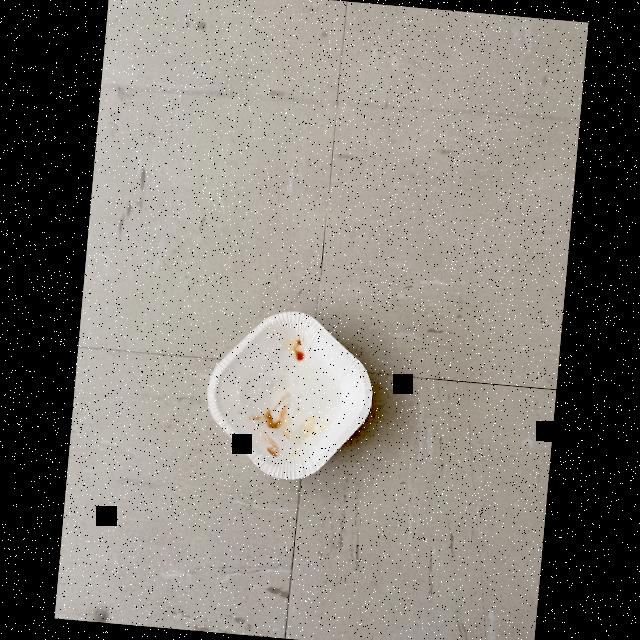cardboard_bowl: (196, 296, 383, 494)
